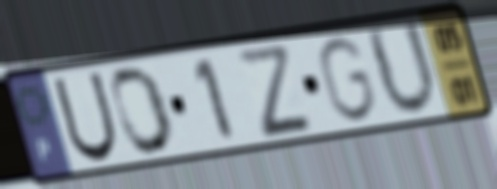1: (192, 55, 239, 142)
G: (314, 33, 380, 125)
O: (109, 63, 177, 159)
U: (361, 16, 442, 121), (50, 69, 121, 166)
Z: (231, 42, 316, 141)
